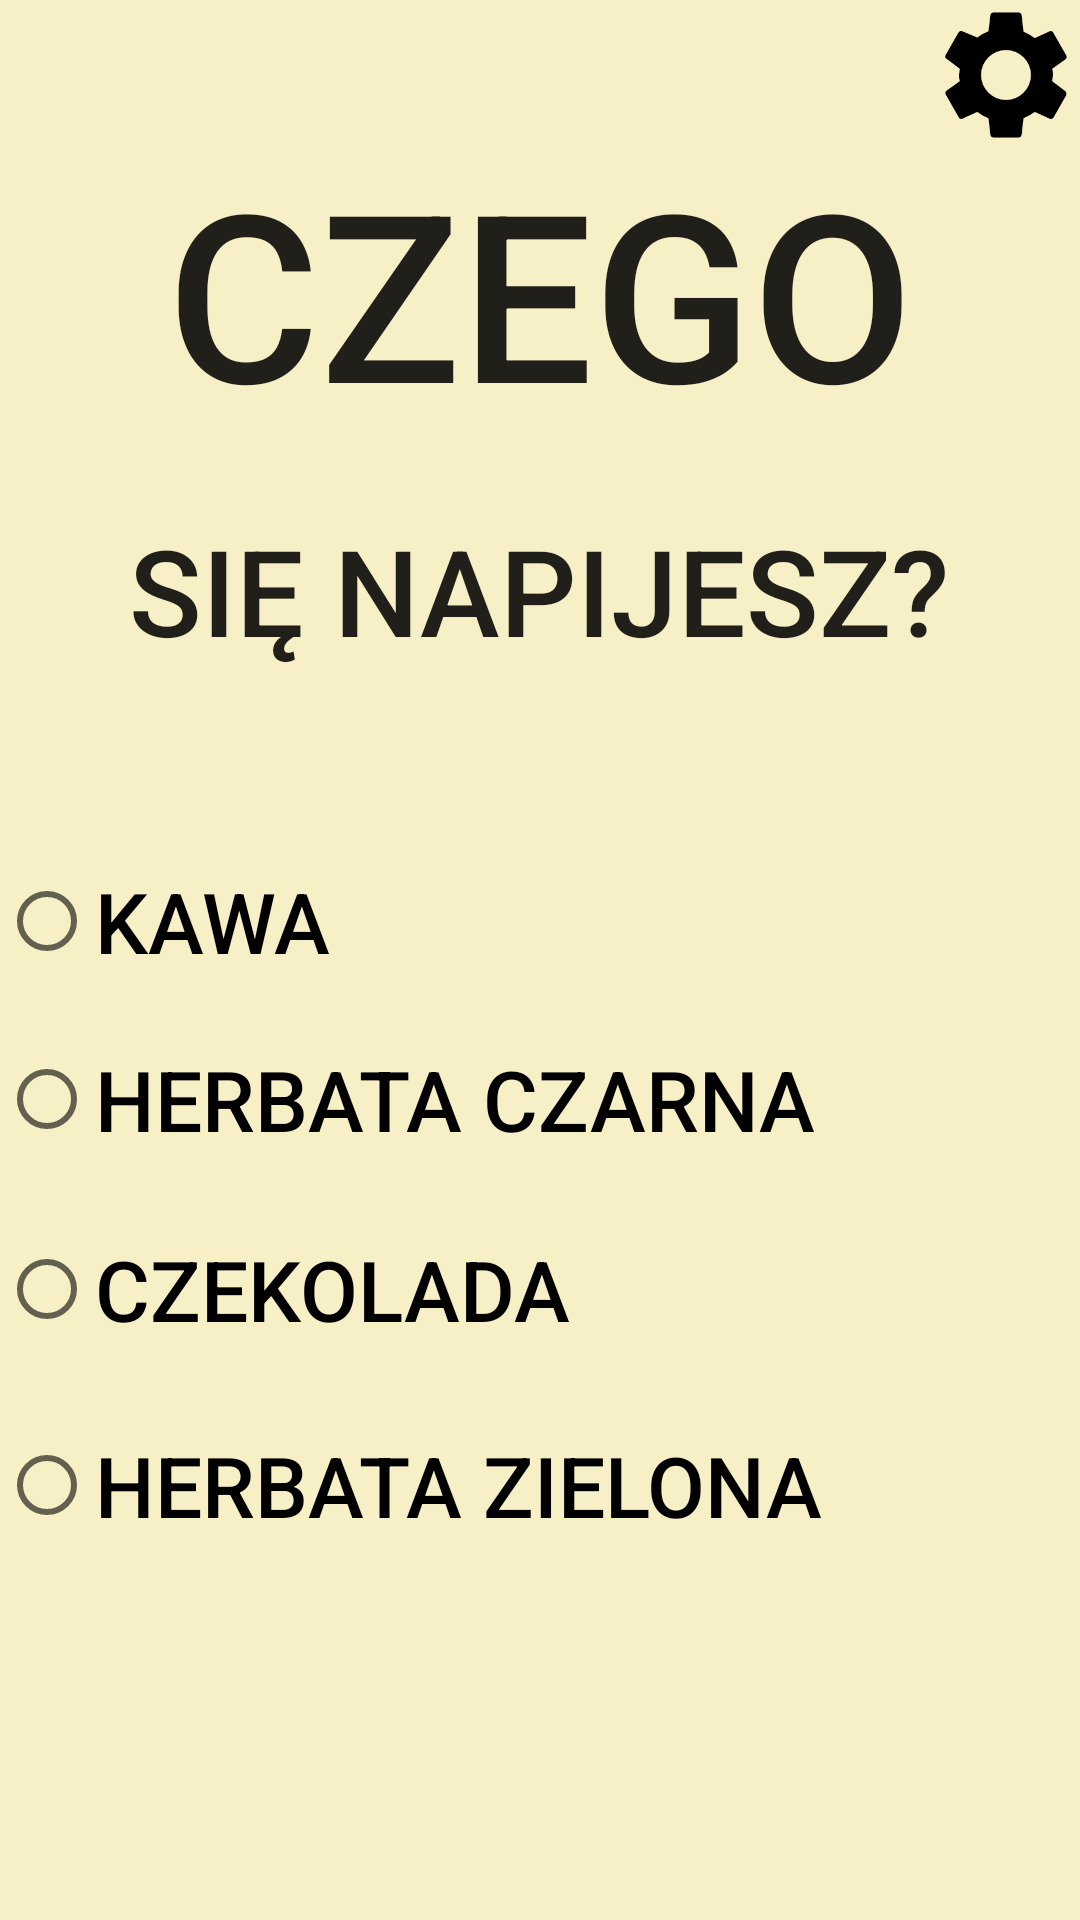

Icon bounding boxes for this 1080px×1920px phone screenshot, format (x1, y1, x2, y2):
settings: (945, 12, 1067, 138)
